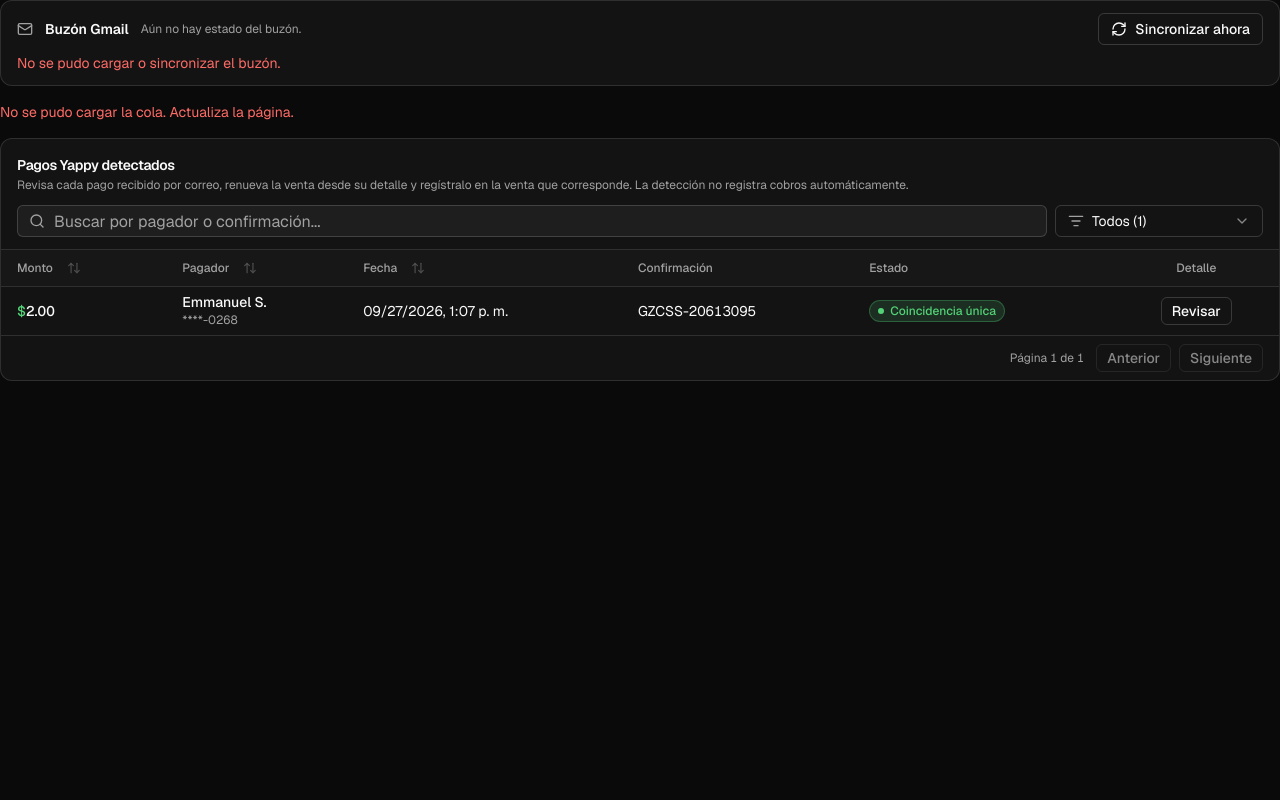
Scenario: Yappy review queue › shows payment and connection failures
What coordinates should you click on to do the following:
click the button "Revisar"
I would click on:
 (1196, 311)
Its box is [1161,297,1232,325].
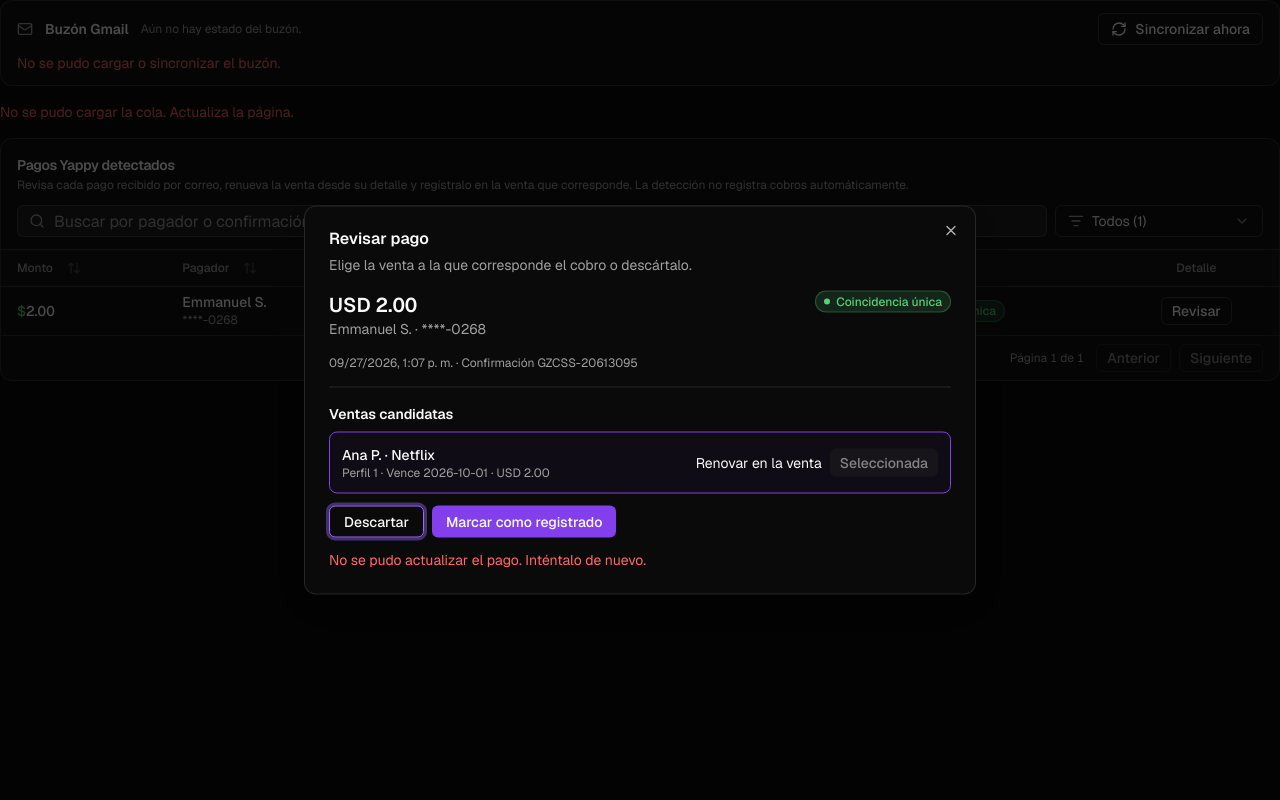
expect the text "No se pudo cargar la cola. Actualiza la página." is shown: met, box [0,103,294,121]
expect the text "No se pudo actualizar el pago. Inténtalo de nuevo." is shown: met, box [329,550,646,568]
